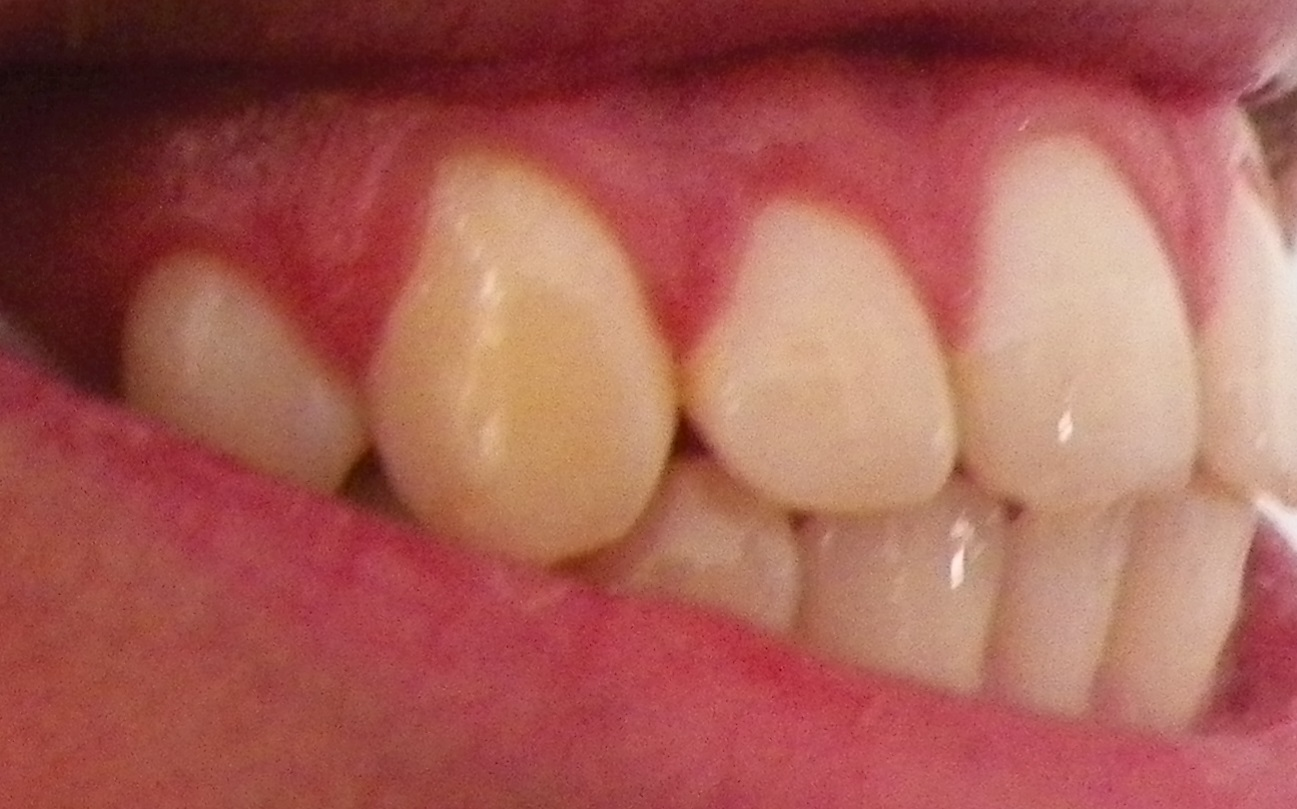boca: (136, 139, 1297, 738)
